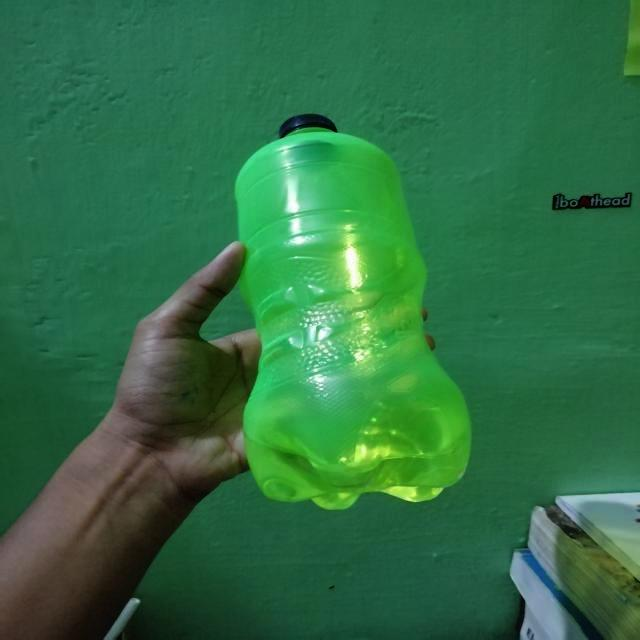bottle: (234, 113, 472, 510)
